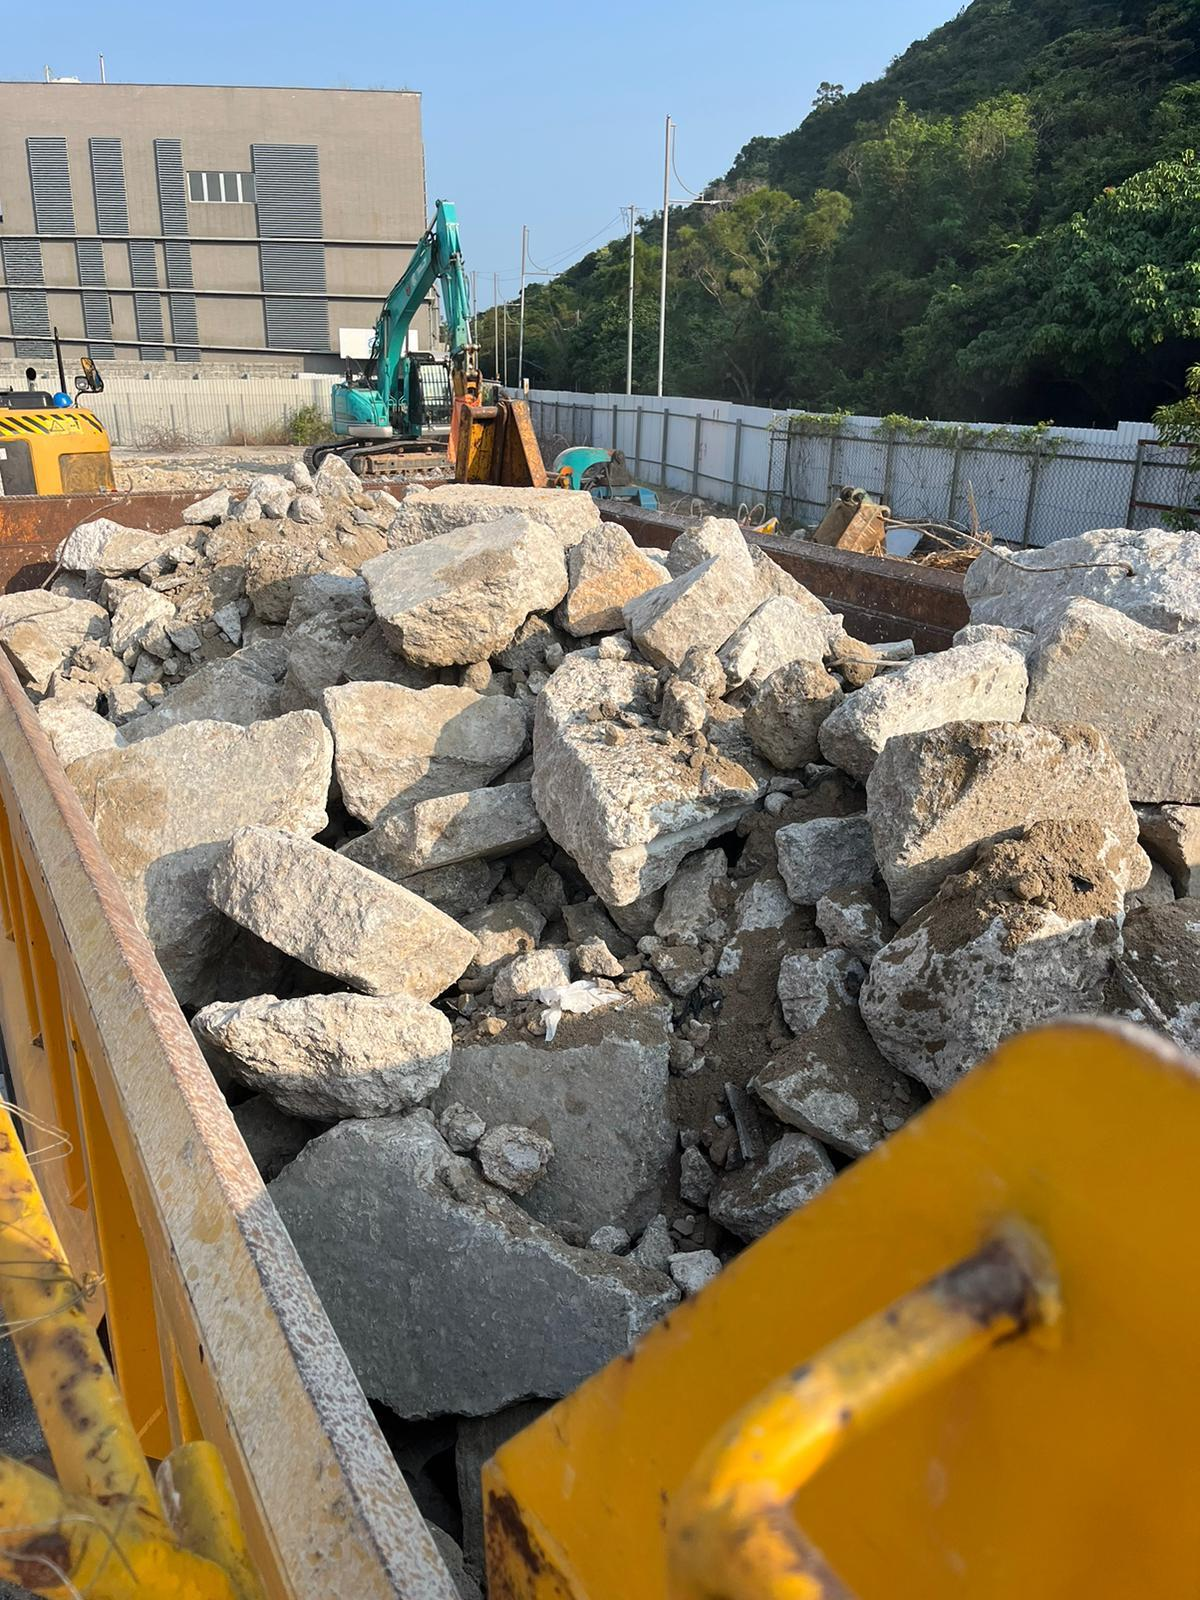dry: (20, 458, 1190, 1468)
